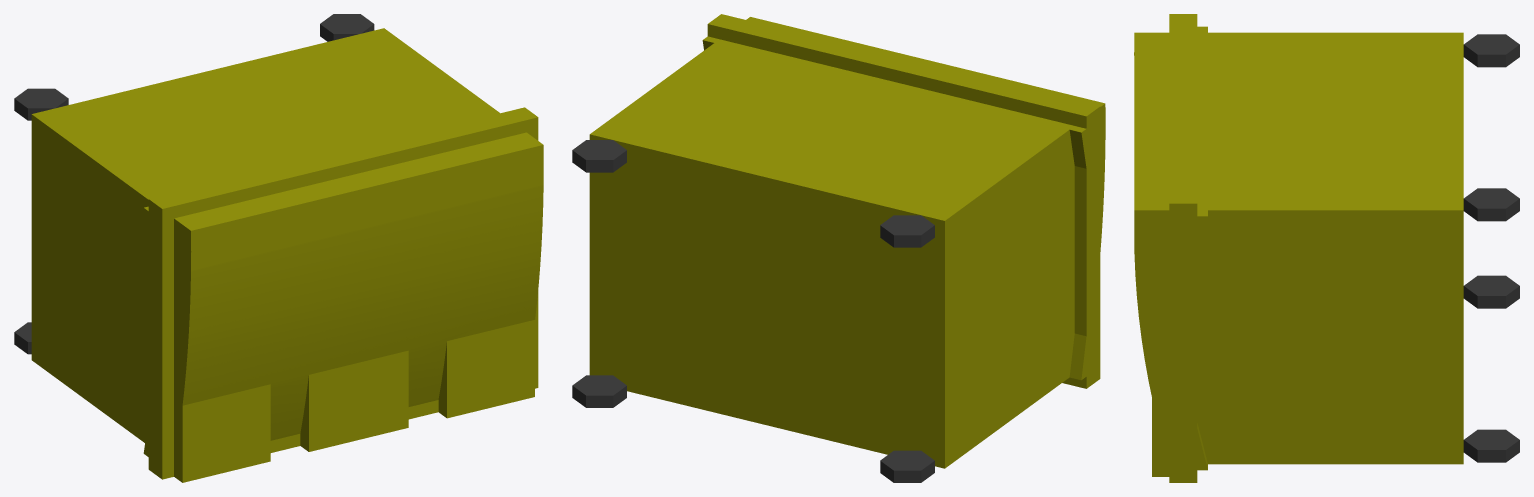
The model's file is wastecart.dae.
The picture shows the model from 3 angles, left to right: view 1: azimuth 30°, elevation 25°; view 2: azimuth 150°, elevation 25°; view 3: azimuth 270°, elevation 25°; orthographic projection. The views are drawn at different scales.
Parts seen in each view (by area): view 1: coords_ME_ID31_MA_Wastecart, coords_ME_ID4_MA_Wheels, coords_ME_ID18_MA_Wheels; view 2: coords_ME_ID31_MA_Wastecart, coords_ME_ID24_MA_Wheels, coords_ME_ID4_MA_Wheels, coords_ME_ID18_MA_Wheels, coords_ME_ID12_MA_Wheels; view 3: coords_ME_ID31_MA_Wastecart, coords_ME_ID12_MA_Wheels, coords_ME_ID4_MA_Wheels, coords_ME_ID24_MA_Wheels, coords_ME_ID18_MA_Wheels.
Part boxes in pixels (x1=…): coords_ME_ID31_MA_Wastecart: x1=31, y1=28, x2=543, y2=482; coords_ME_ID4_MA_Wheels: x1=14, y1=88, x2=68, y2=120; coords_ME_ID18_MA_Wheels: x1=320, y1=14, x2=374, y2=41; coords_ME_ID31_MA_Wastecart: x1=589, y1=14, x2=1105, y2=468; coords_ME_ID24_MA_Wheels: x1=880, y1=450, x2=934, y2=482; coords_ME_ID4_MA_Wheels: x1=880, y1=215, x2=934, y2=247; coords_ME_ID18_MA_Wheels: x1=572, y1=140, x2=626, y2=172; coords_ME_ID12_MA_Wheels: x1=572, y1=375, x2=626, y2=407; coords_ME_ID31_MA_Wastecart: x1=1134, y1=14, x2=1463, y2=482; coords_ME_ID12_MA_Wheels: x1=1463, y1=429, x2=1519, y2=462; coords_ME_ID4_MA_Wheels: x1=1463, y1=34, x2=1519, y2=67; coords_ME_ID24_MA_Wheels: x1=1463, y1=275, x2=1519, y2=308; coords_ME_ID18_MA_Wheels: x1=1463, y1=188, x2=1519, y2=221.
Size of the model in its own units: 17.38 by 11.95 by 14.95.
